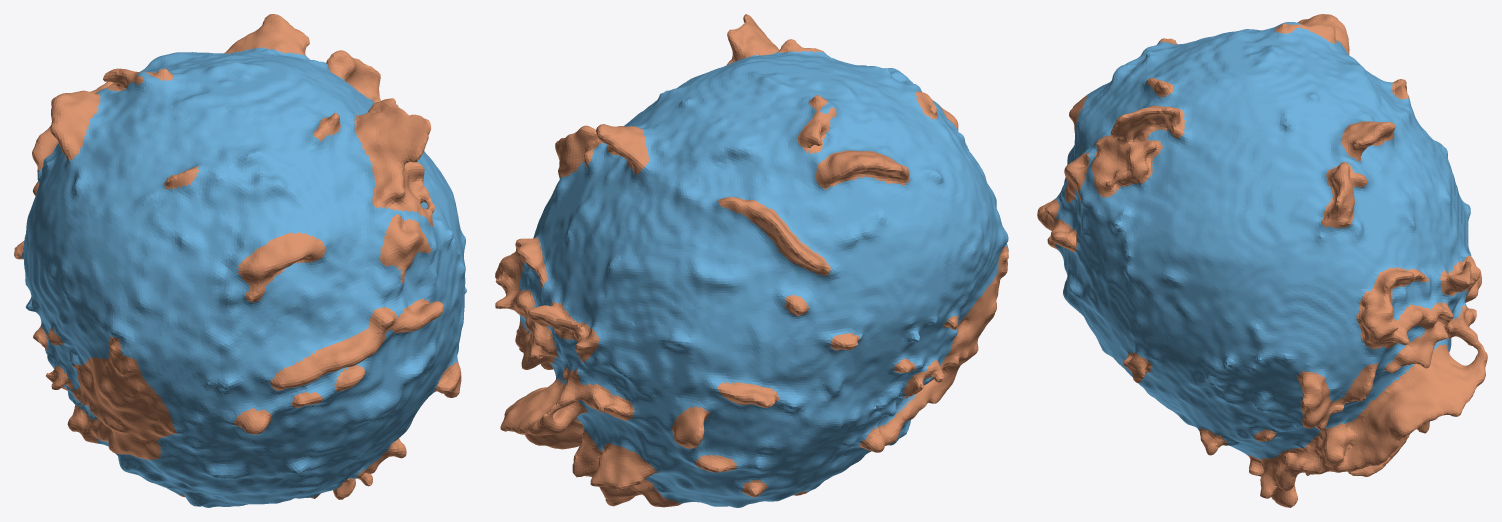
The picture shows the model from 3 angles, left to right: view 1: azimuth 30°, elevation 25°; view 2: azimuth 150°, elevation 25°; view 3: azimuth 270°, elevation 25°; orthographic projection. The views are drawn at different scales.
Size of the model in its own units: 129 by 132 by 133.
